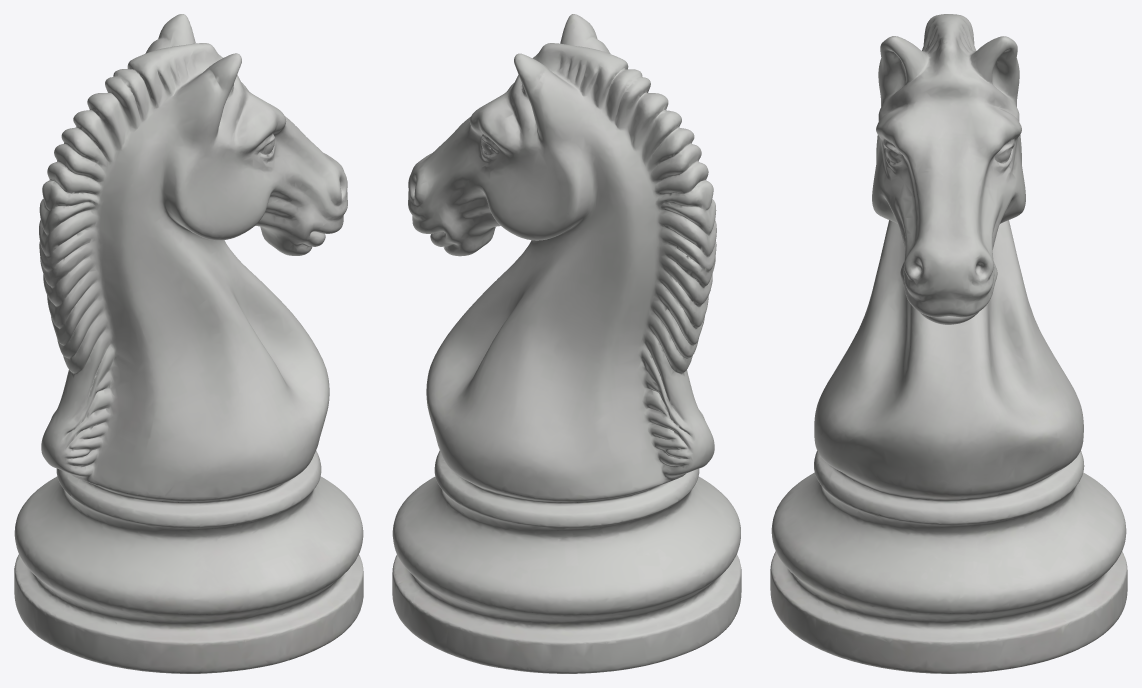
The model's file is knight_high.glb.
3 views of the same model, side by side, from view 1: azimuth 30°, elevation 25°; view 2: azimuth 150°, elevation 25°; view 3: azimuth 270°, elevation 25° (orthographic).
Parts seen in each view (by area): view 1: world; view 2: world; view 3: world.
Boxes of the visible parts, x1=… form: world: x1=14, y1=14, x2=363, y2=673; world: x1=392, y1=14, x2=741, y2=673; world: x1=770, y1=14, x2=1127, y2=673.
Size of the model in its own units: 0.5652 by 1 by 0.5635.
1 material, 1 textured.
